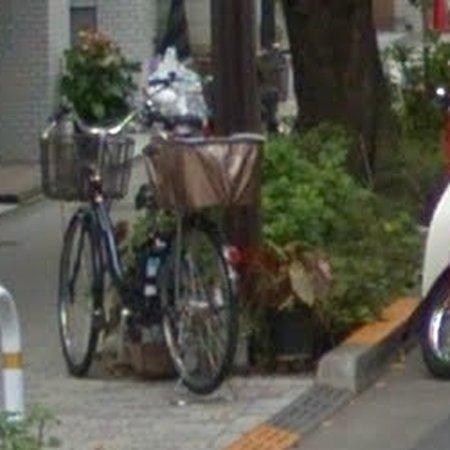bicycles: (41, 113, 264, 395)
